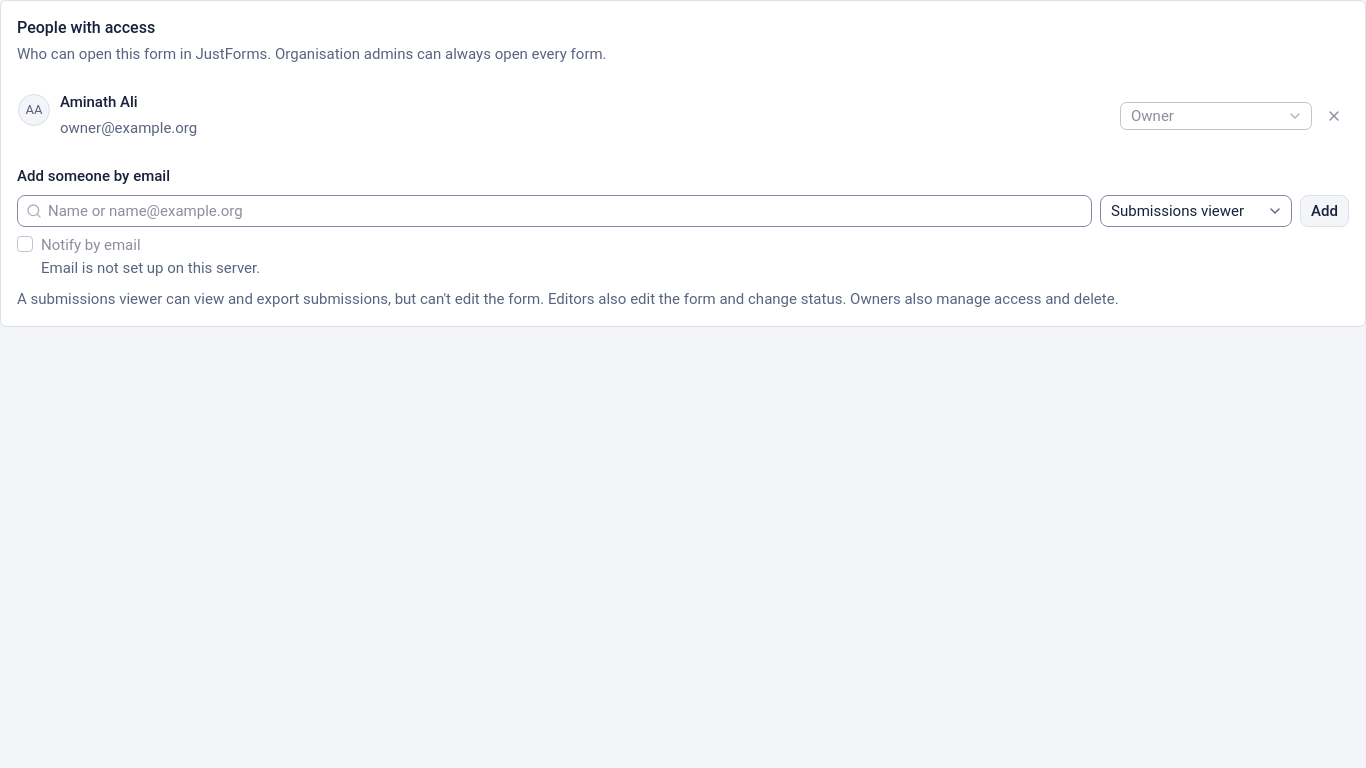
Scenario: Share: add someone › offers to invite a full address from outside to organisation admins
The image size is (1366, 768).
Type "new@example.org" into the dropdown labelled "Add someone by email" at [567, 211], box [42,200,1091,222]
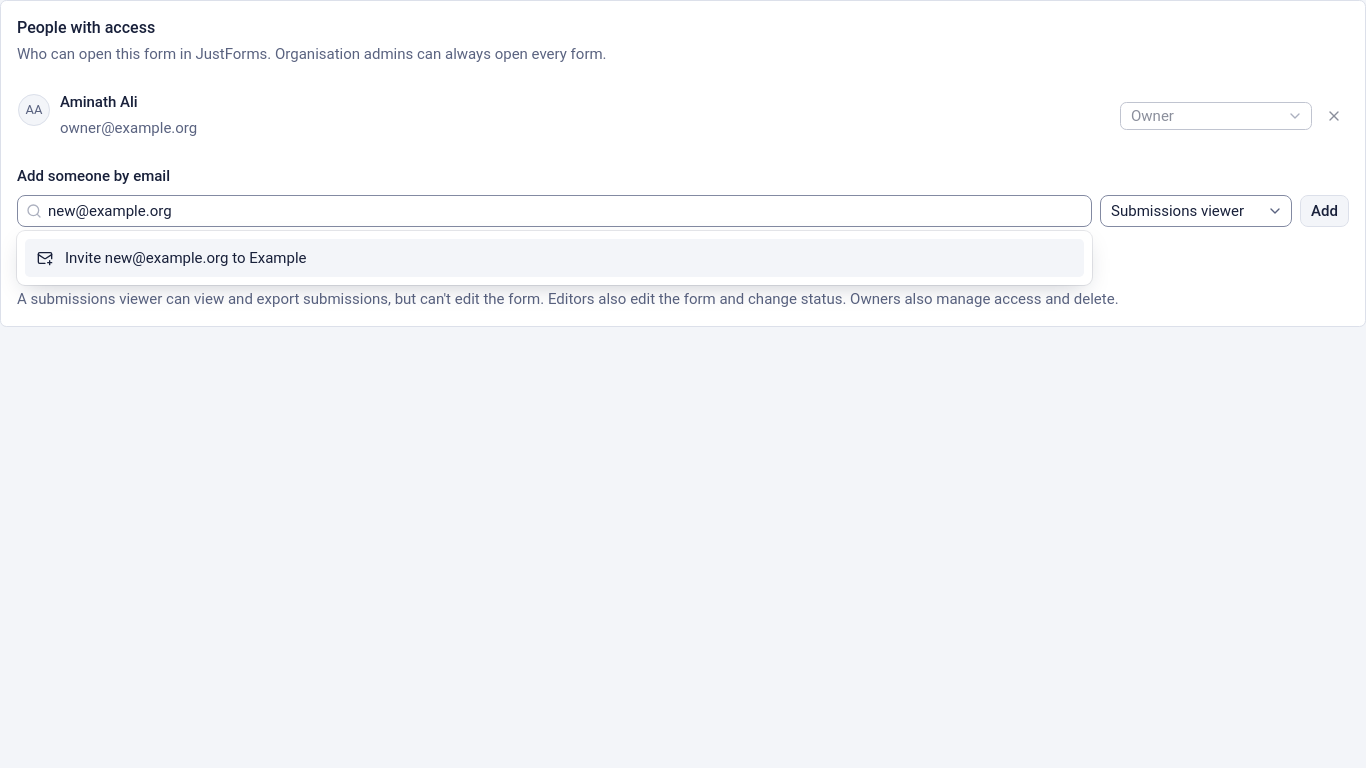
Expected: the option "Invite new@example.org to Example" is shown, [25,239,1084,277]
Press Enter in the dropdown labelled "Add someone by email", box [42,200,1091,222]
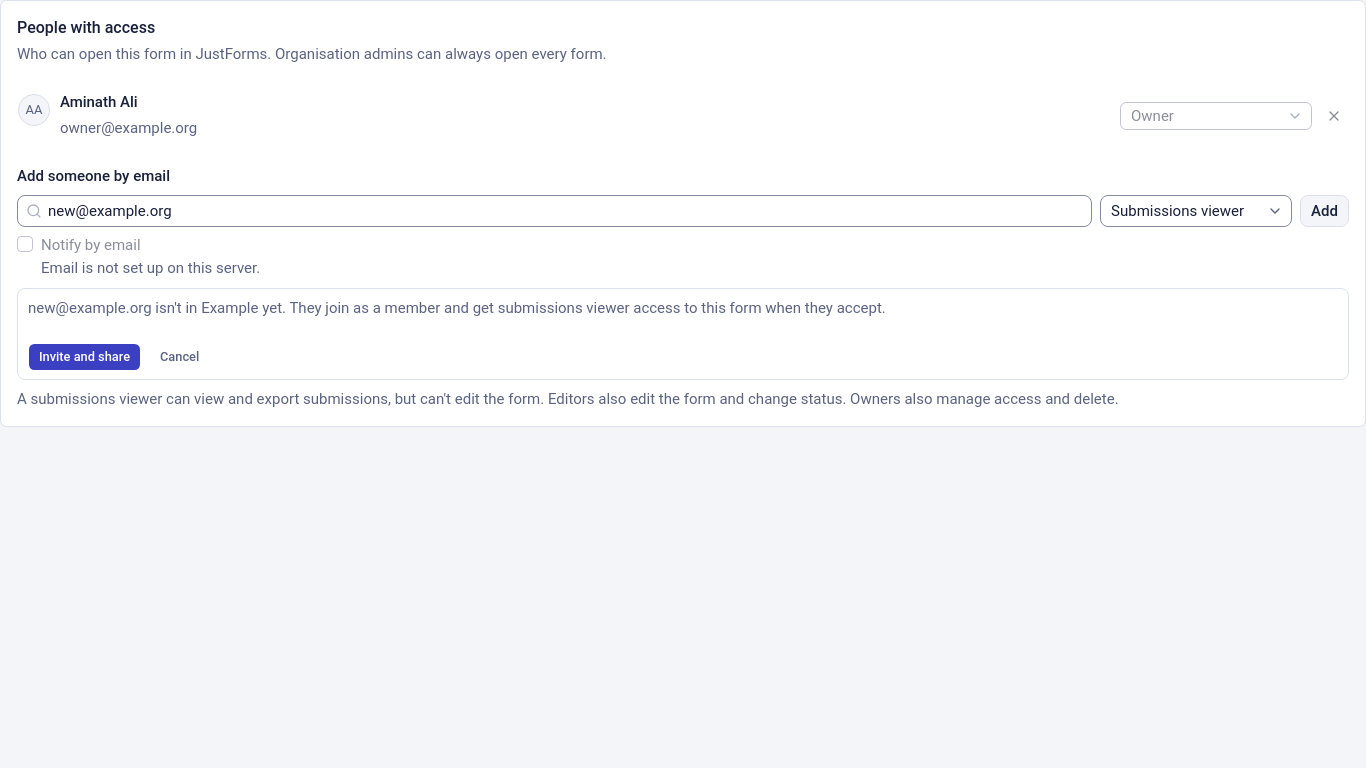
Expected: the text "new@example.org isn't in Example yet." is shown, [28,299,886,317]
Expected: the text "Invite and share" is shown, [28,343,141,371]
